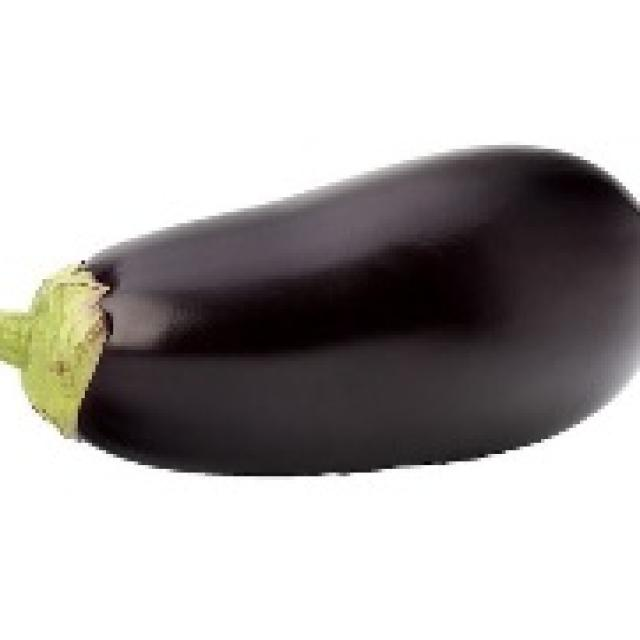eggplant: (10, 145, 640, 491)
